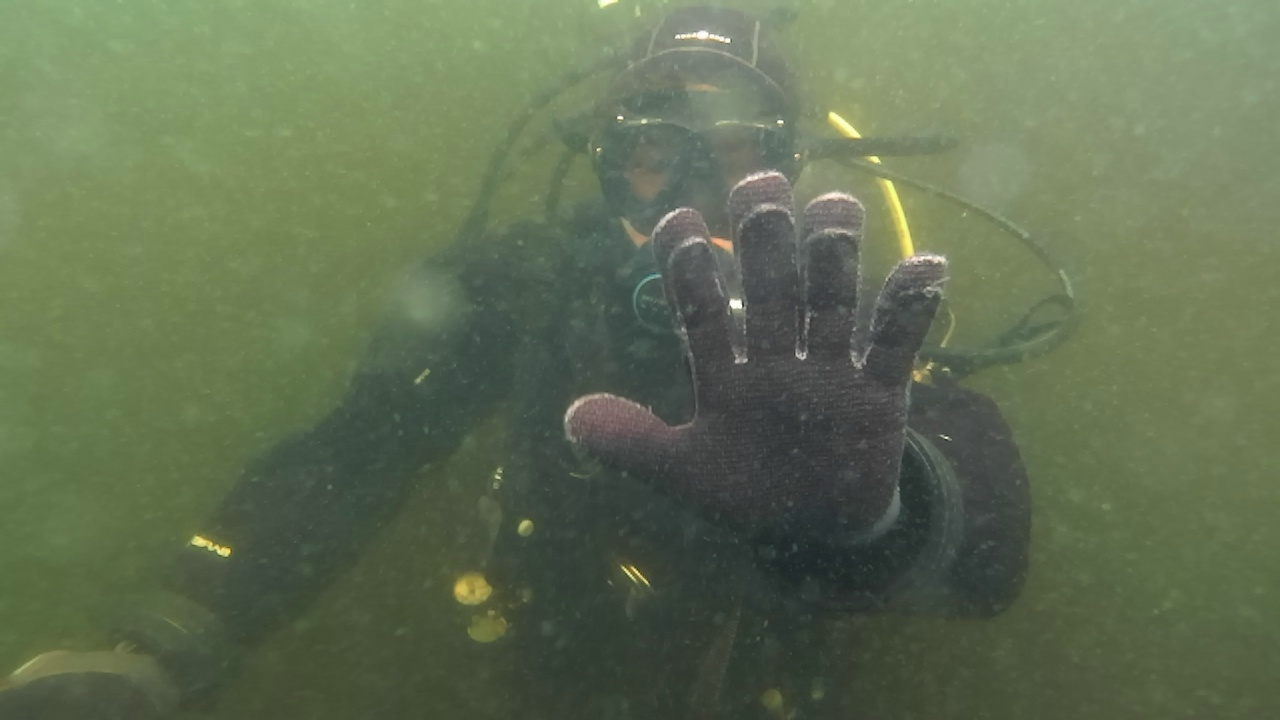Diver: (20, 12, 1078, 712)
Hand: (562, 178, 948, 548), (6, 616, 234, 716)
Head: (564, 4, 804, 284)
